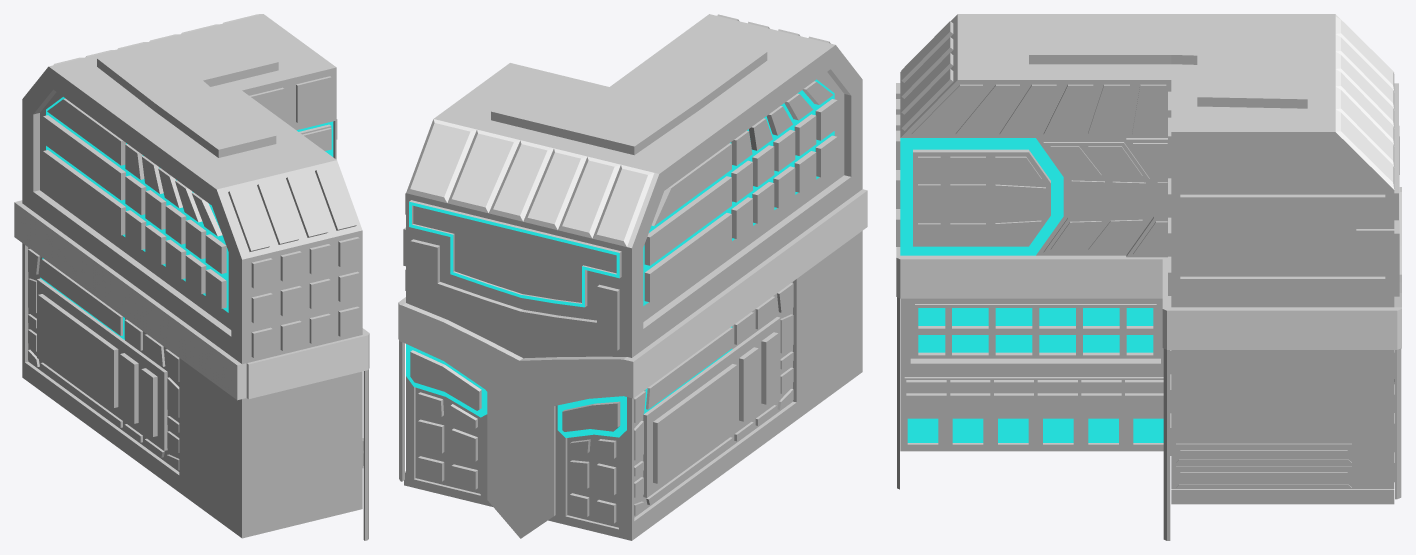
The model's file is building-l.glb.
3 renders of one model, left to right at view 1: azimuth 30°, elevation 25°; view 2: azimuth 150°, elevation 25°; view 3: azimuth 270°, elevation 25°, orthographic. The views are drawn at different scales.
Visible parts, largest first — view 1: Cube.005; view 2: Cube.005; view 3: Cube.005.
Part boxes in pixels (box(x1,y1,x2,y2)): Cube.005: box(14, 14, 369, 540); Cube.005: box(398, 14, 867, 540); Cube.005: box(896, 14, 1401, 540).
Bounding box in the file's own units: 24.07 × 37.63 × 41.53.
